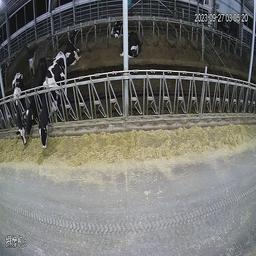cow: (39, 50, 67, 151), (9, 72, 28, 146), (25, 57, 39, 134), (66, 26, 83, 67), (128, 30, 142, 59), (111, 17, 124, 38)
